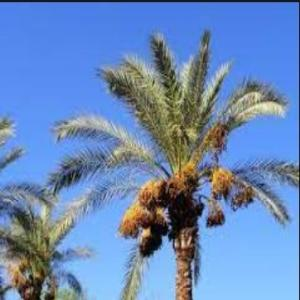palm tree: (46, 27, 298, 299)
